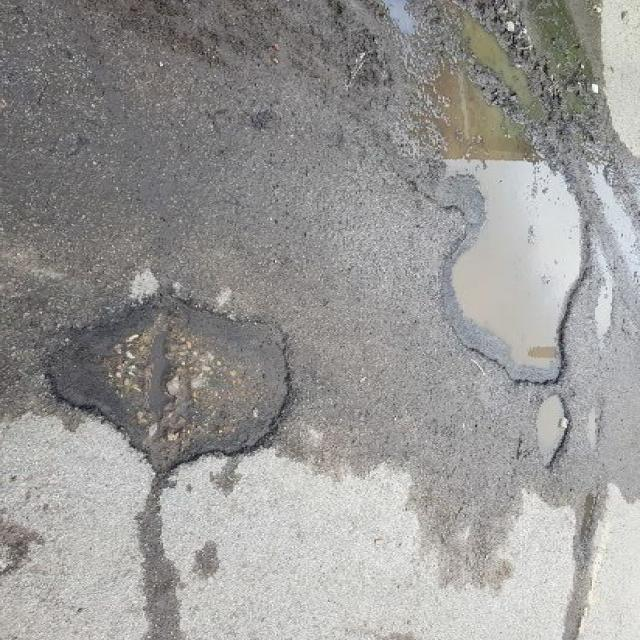pothole: (376, 62, 594, 386), (42, 286, 303, 484), (520, 390, 580, 470)
